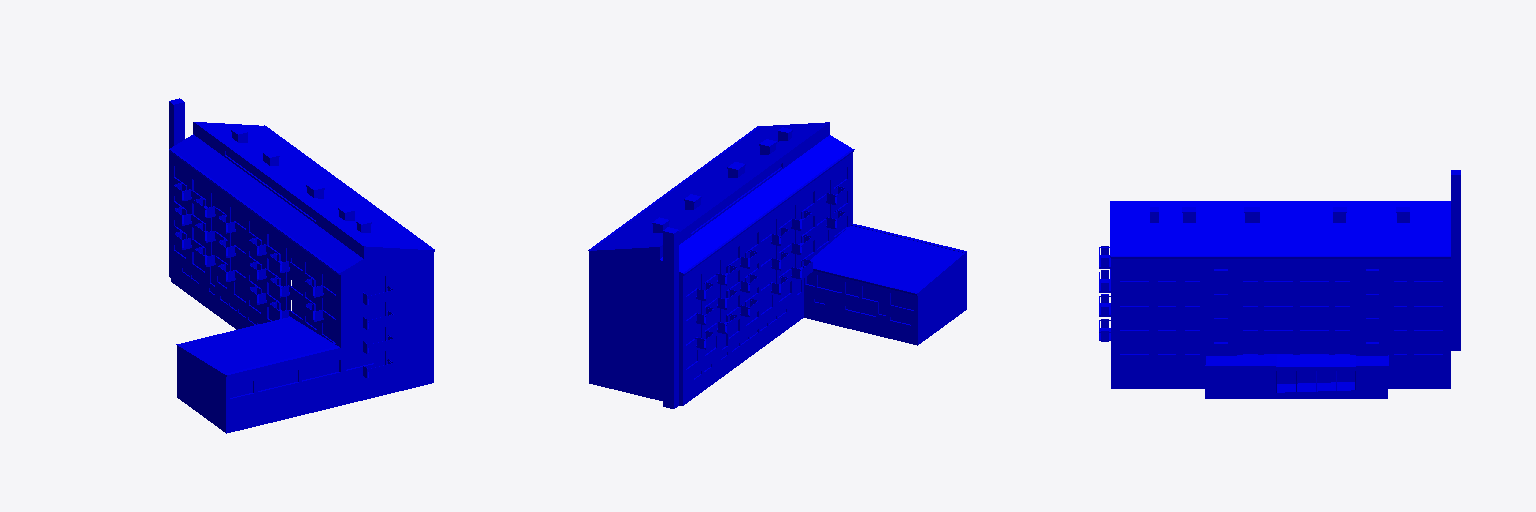
File: uusikat_18.obj
The picture shows the model from 3 angles: view 1: azimuth 30°, elevation 25°; view 2: azimuth 150°, elevation 25°; view 3: azimuth 270°, elevation 25°; orthographic projection.
Visible parts, largest first — view 1: Object_1; view 2: Object_1; view 3: Object_1.
Part boxes in pixels (x1,y1,x2,y2): Object_1: (169, 98, 434, 433); Object_1: (588, 122, 966, 408); Object_1: (1099, 170, 1460, 398).
Size of the model in its own units: 27.54 by 20.24 by 37.85.